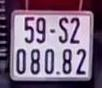0: (14, 47, 27, 75), (44, 47, 56, 76)
2: (69, 14, 81, 44), (75, 47, 87, 76)
5: (22, 14, 35, 45)
8: (29, 48, 41, 76), (61, 48, 73, 75)
9: (35, 16, 48, 45)
S: (57, 15, 70, 44)
